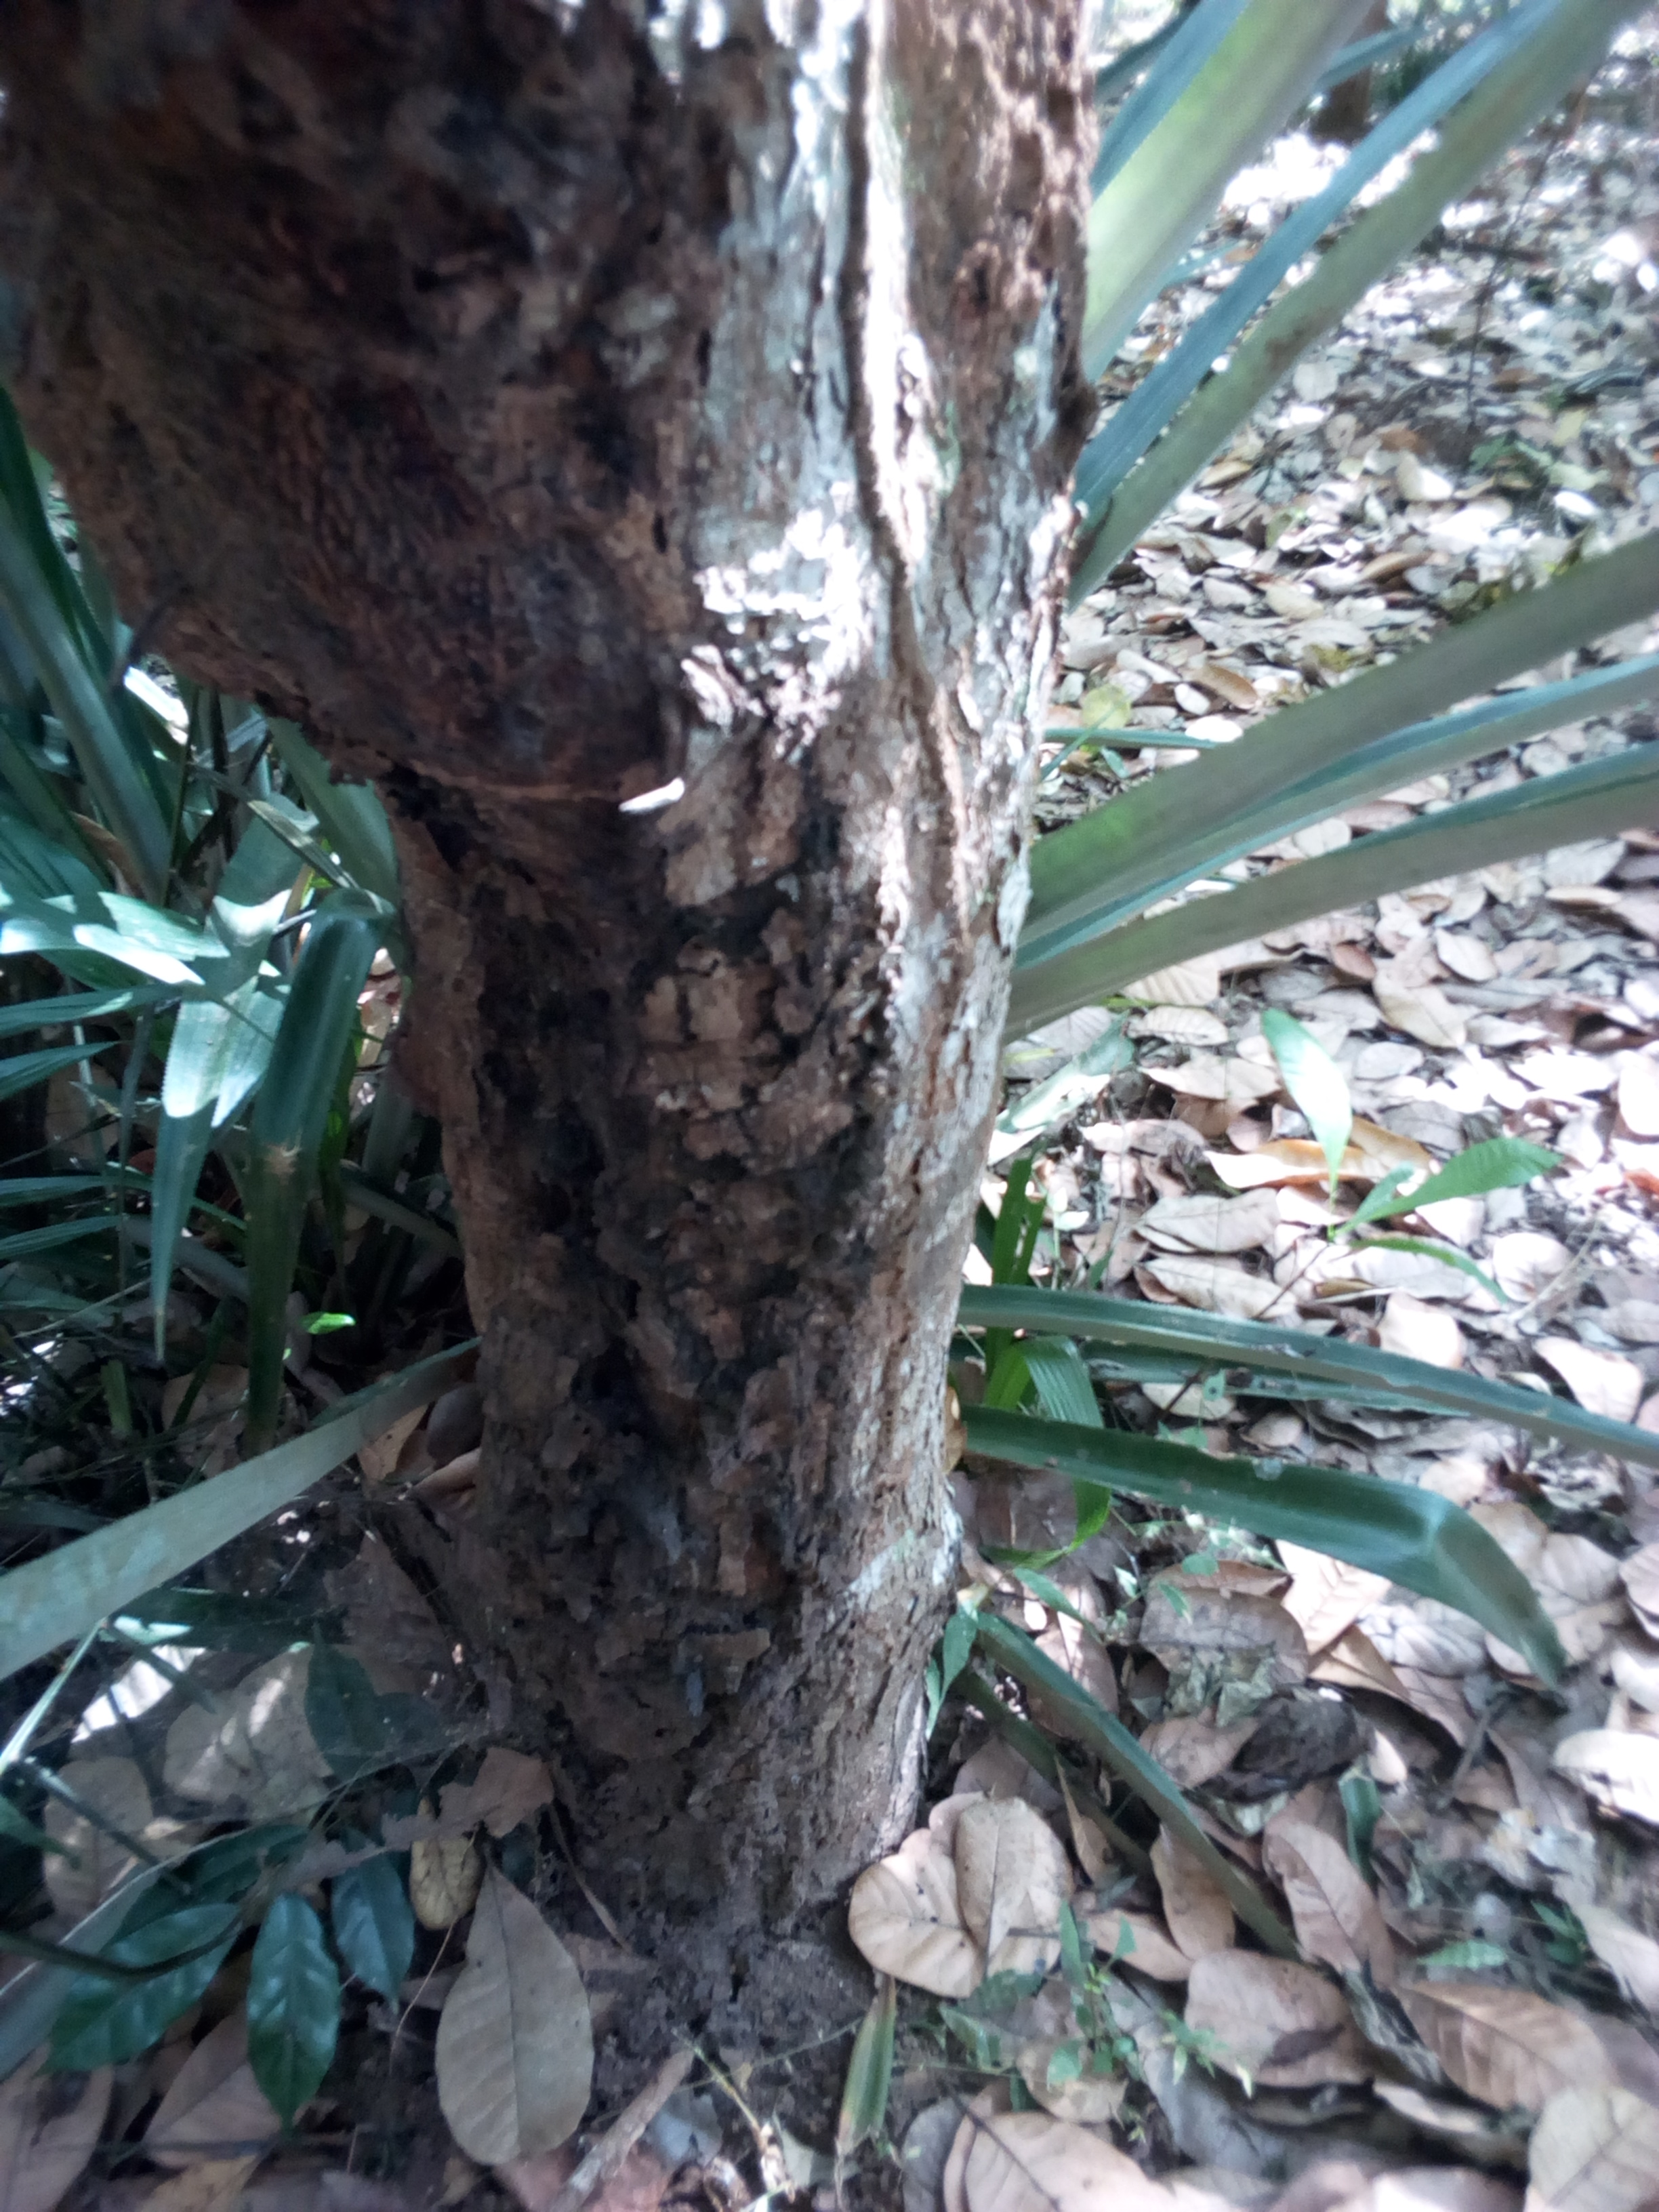Termites: (491, 841, 911, 1844), (159, 31, 762, 583), (861, 2, 1070, 798)
